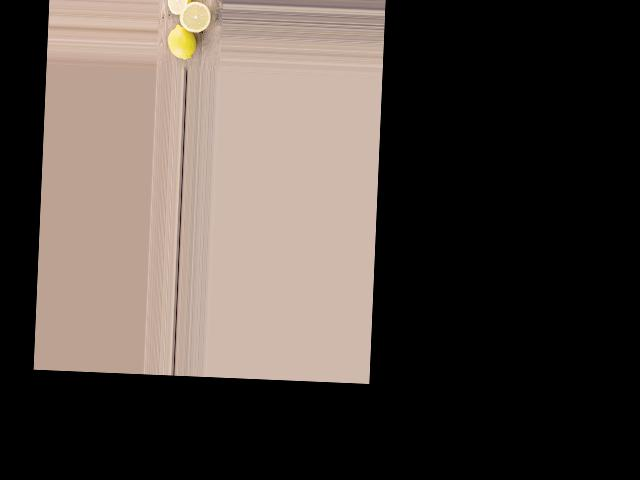lemon: (163, 23, 197, 58)
